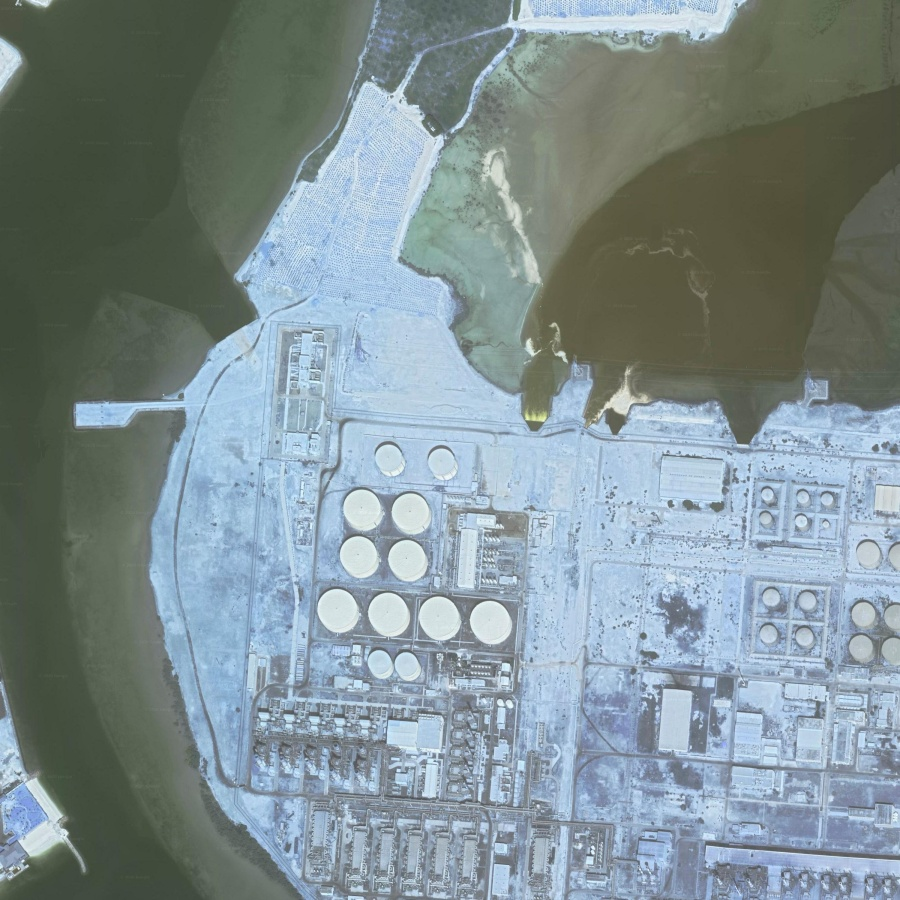PowerPlant: (245, 429, 545, 818)
